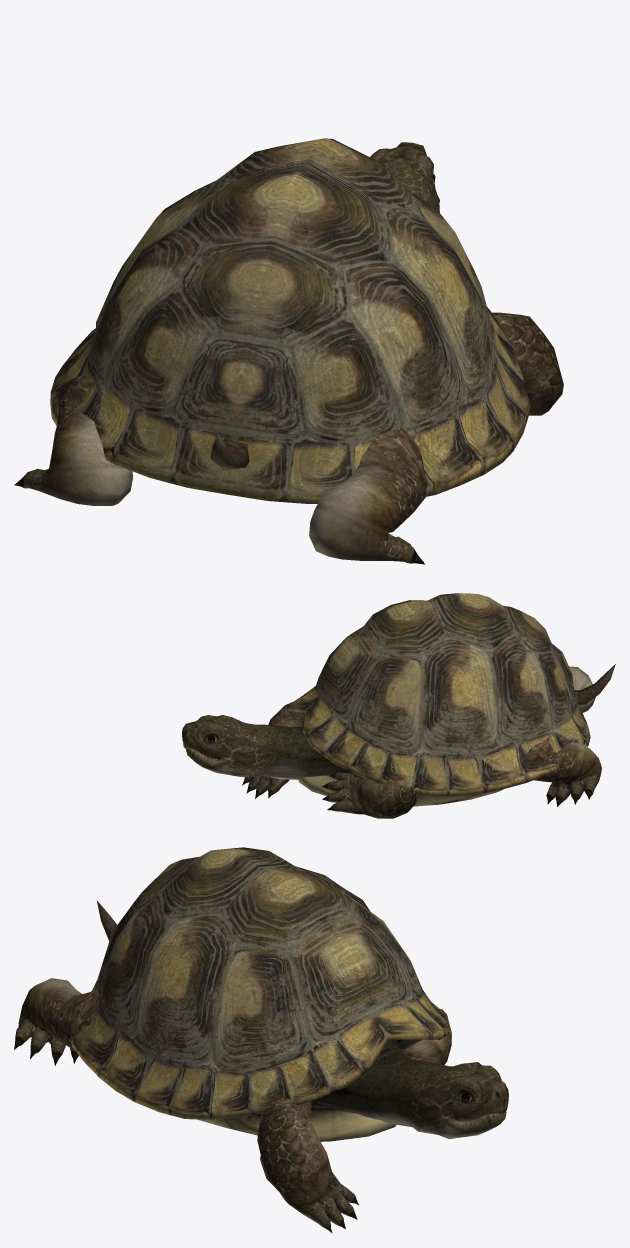
The model's file is turtle.obj.
3 views of the same model, one above another, from view 1: azimuth 30°, elevation 25°; view 2: azimuth 150°, elevation 25°; view 3: azimuth 270°, elevation 25° (orthographic). The views are drawn at different scales.
Parts seen in each view (by area): view 1: U3DMesh(Clone).15757; view 2: U3DMesh(Clone).15757; view 3: U3DMesh(Clone).15757.
Boxes of the visible parts, x1,y1,x2,y2 form: U3DMesh(Clone).15757: [14, 138, 563, 564]; U3DMesh(Clone).15757: [182, 593, 615, 818]; U3DMesh(Clone).15757: [14, 847, 508, 1233].
Size of the model in its own units: 75.18 by 32.67 by 66.34.
